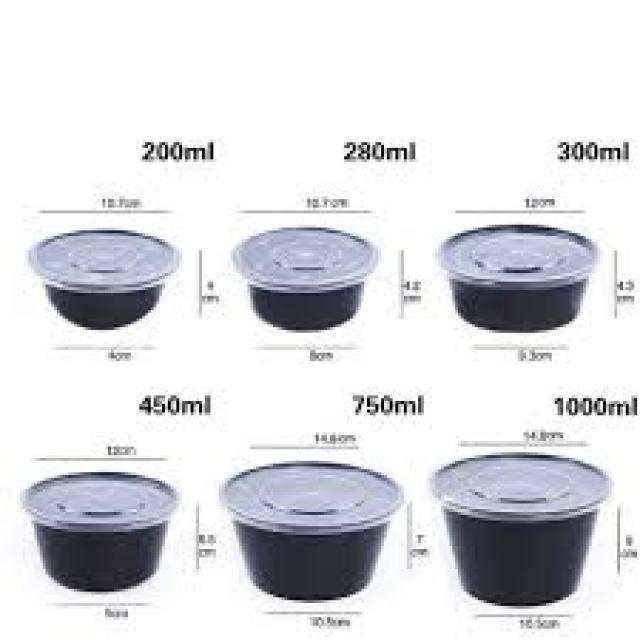disposable: (419, 443, 612, 611), (216, 453, 414, 608), (19, 451, 196, 601), (26, 216, 201, 349), (229, 208, 395, 343), (438, 217, 598, 341)
